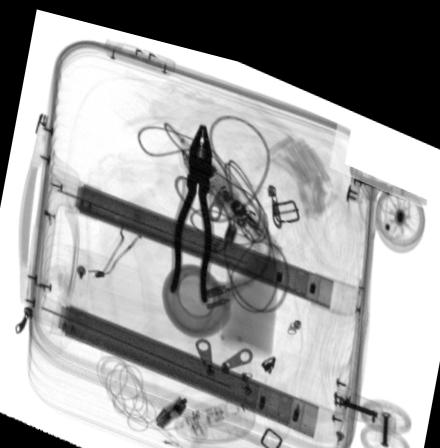Pliers: (167, 111, 214, 291)
